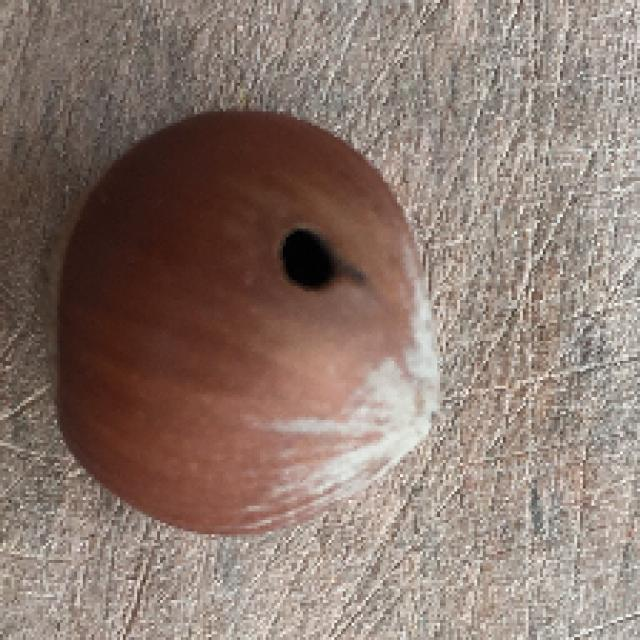damagedHazelnut: (29, 106, 447, 541)
